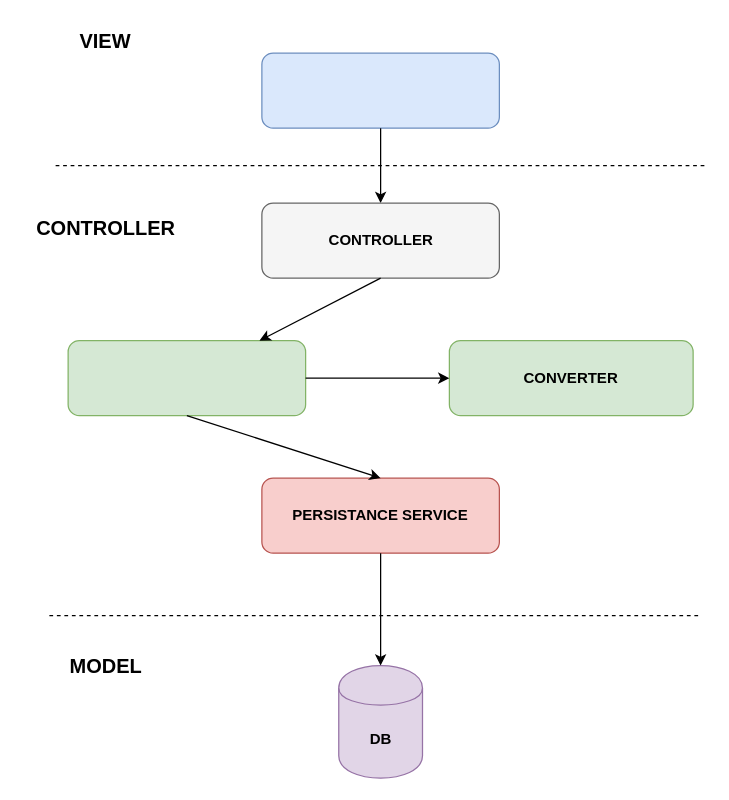
The diagram is 729 pixels wide and 800 high, and some of its shapes have lost their labels. Here are the shapes that lost their labels. From the top down, the centre of each, then its label:
At (380,90): "GUI".
At (186,377): "HANDLER".
